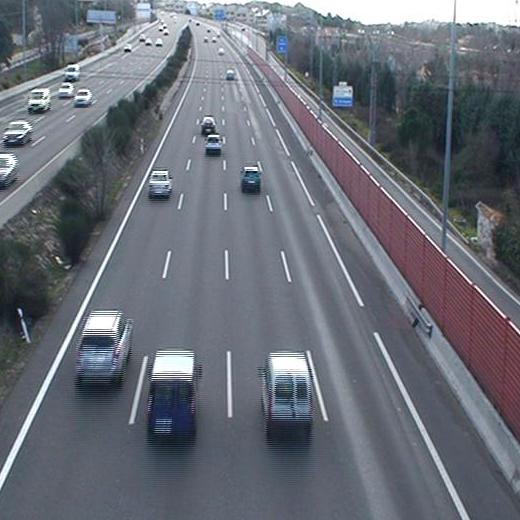car: (76, 308, 134, 383), (147, 171, 173, 198), (242, 166, 261, 192), (206, 135, 222, 155), (202, 116, 216, 133), (226, 69, 237, 80)
van: (148, 349, 202, 435), (259, 352, 314, 429)
